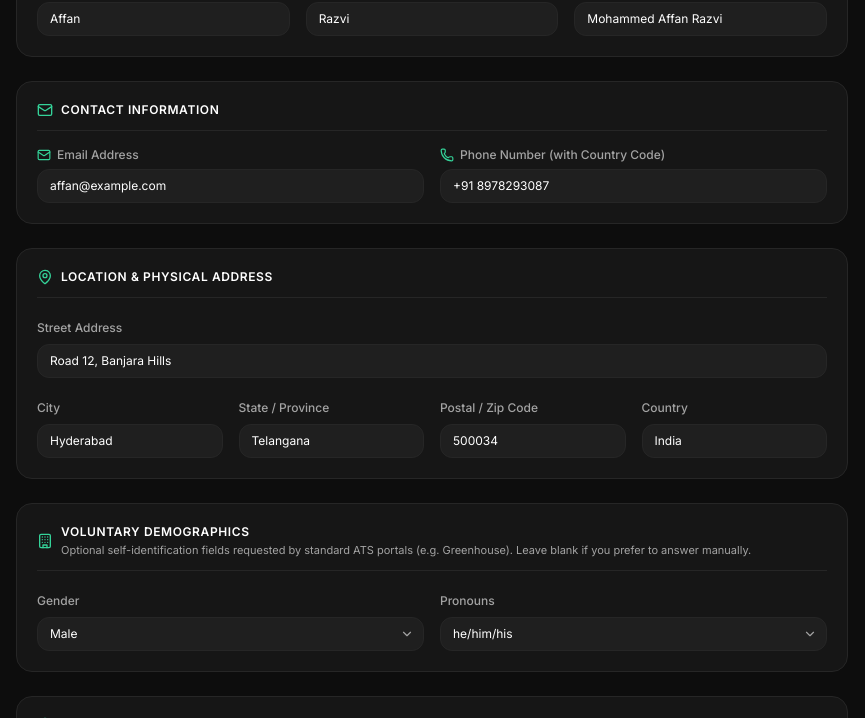
Test case: SettingsPage Autofill Configuration & Integrations › enables Save button and shows unsaved changes badge on edit
(page scrolled)
Step 1. Replace the text in the field showing "Road 12, Banjara Hills" below "Street Address" with "456 Innovation Park" → (432, 360), box [37,344,827,378]
(page scrolled)
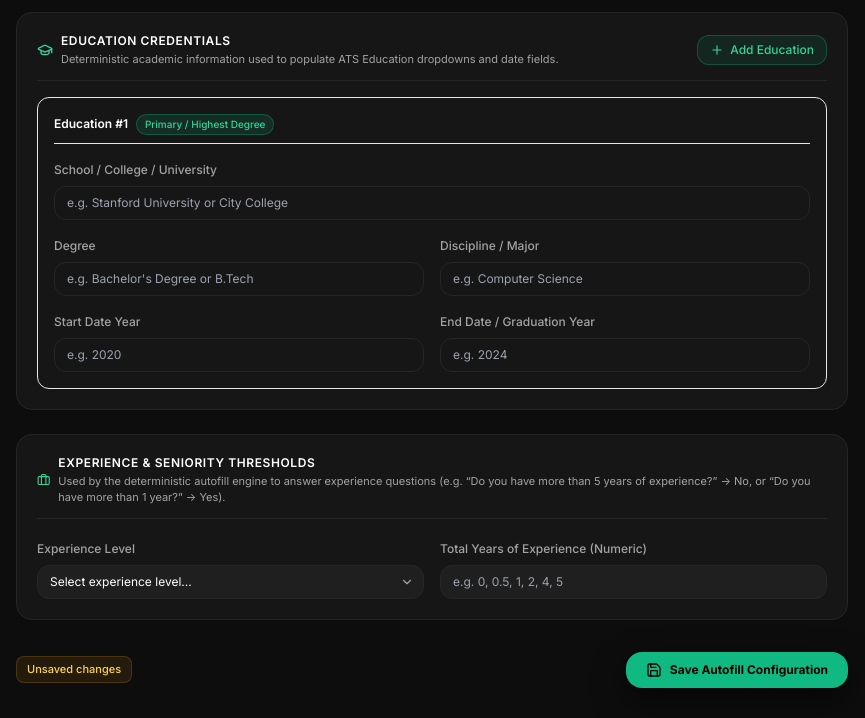
Now the text "Unsaved changes" is shown, box [16,656,132,683]
Now the button "Save Autofill Configuration" is enabled, box [626,652,848,688]
